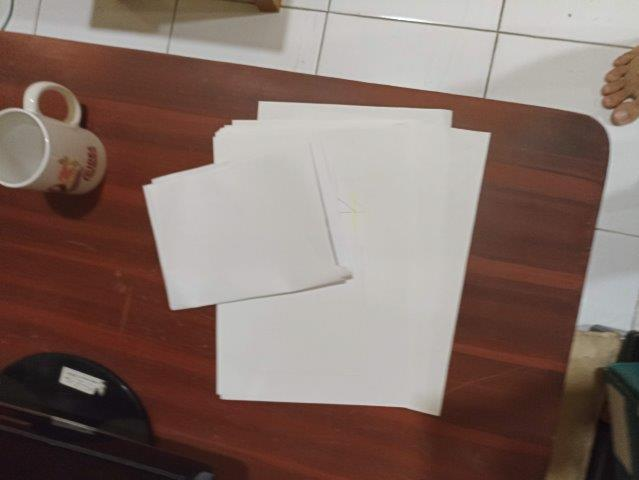kertas: (143, 101, 492, 416)
